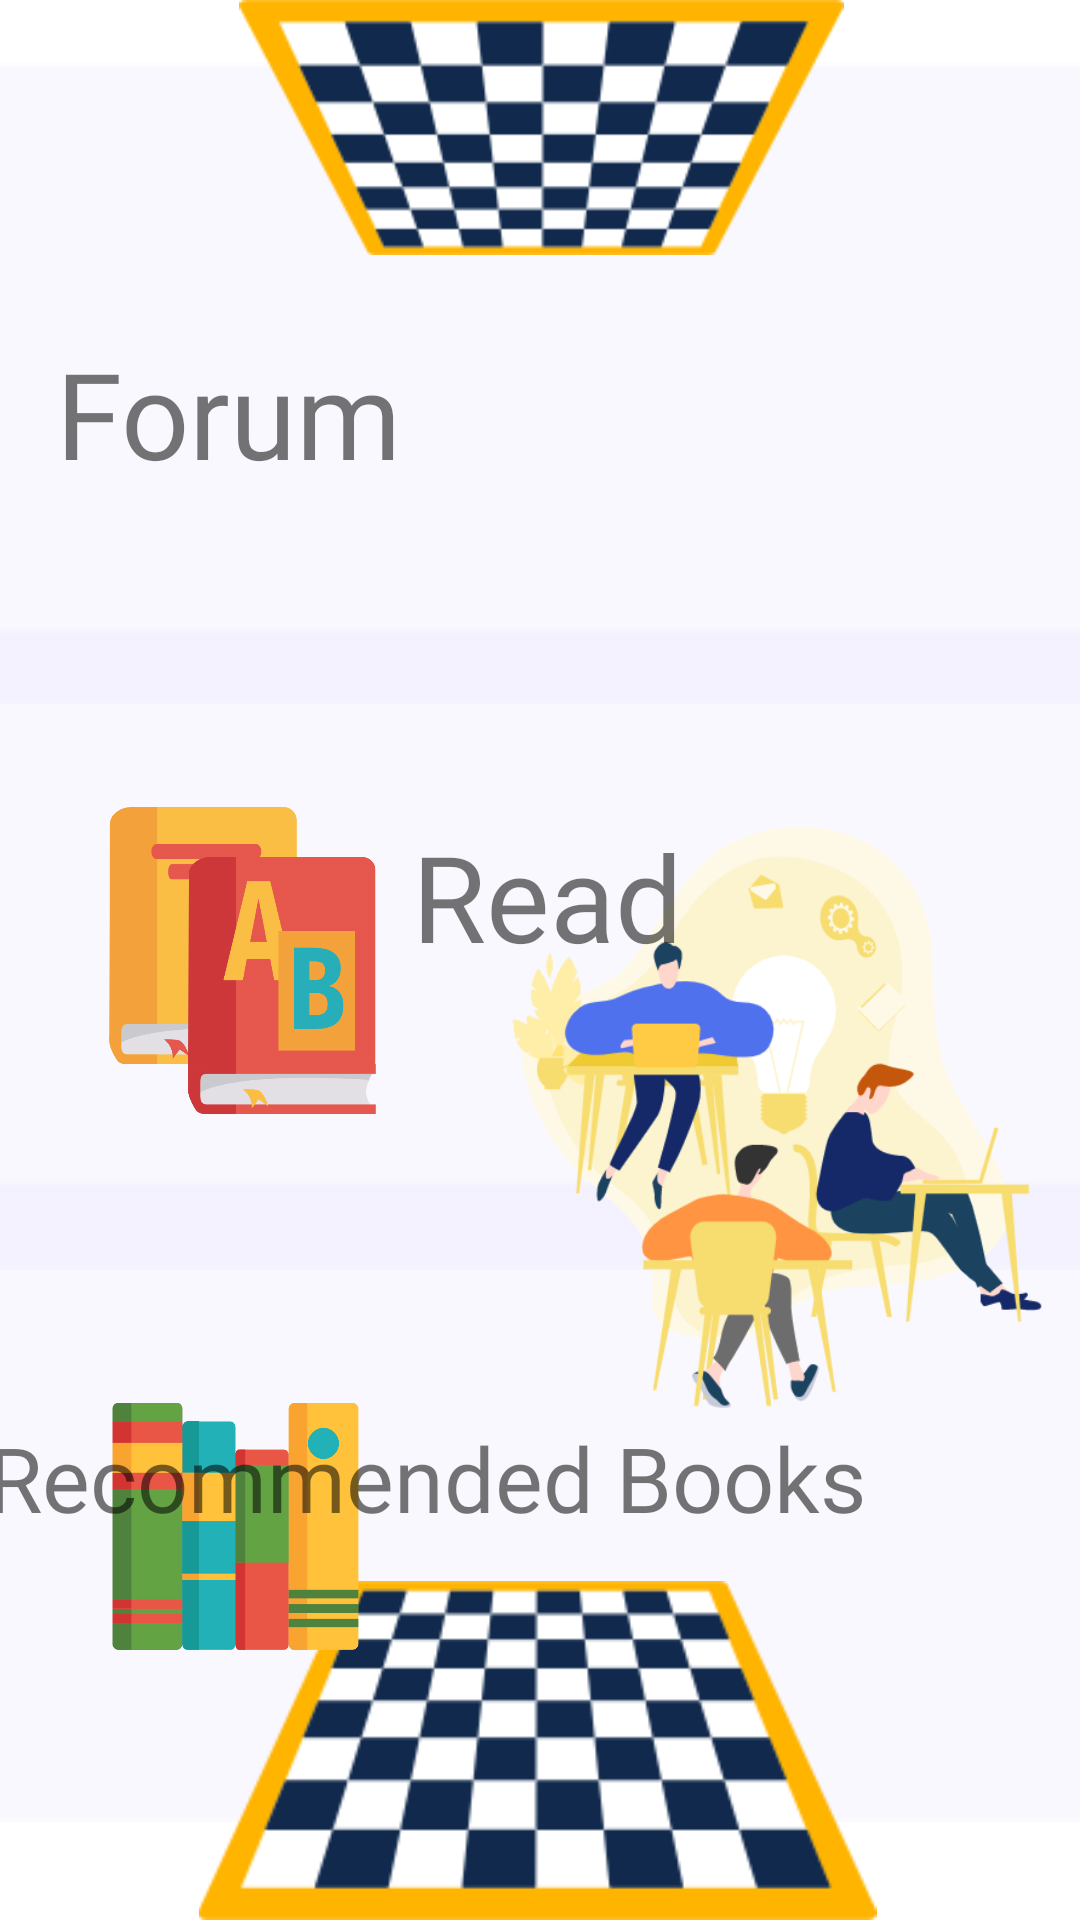

Locate icon controls on the screen. Image size 1080w x 1920h, boxes as (x1, y1, x2, y2).
dictionary: (109, 807, 376, 1114)
